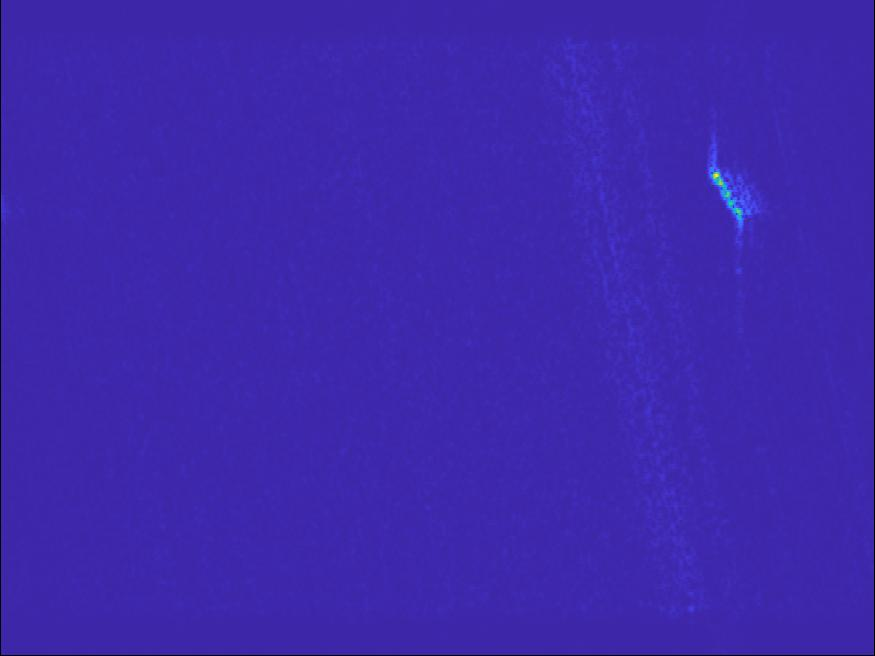Interference: (468, 39, 684, 206), (581, 281, 787, 364), (62, 146, 166, 192), (52, 298, 135, 349), (472, 418, 560, 466)
